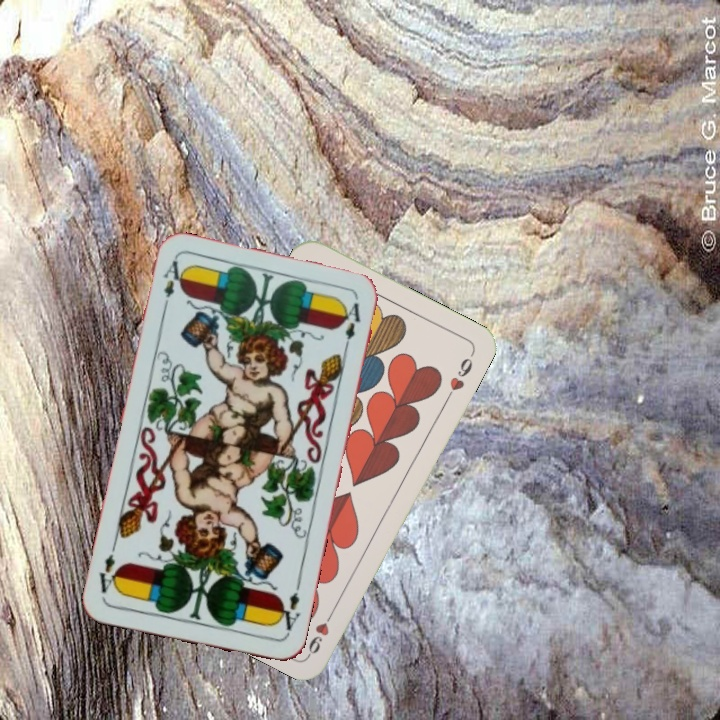EA: (159, 256, 187, 314), (273, 588, 303, 637)
H9: (304, 603, 339, 657)
